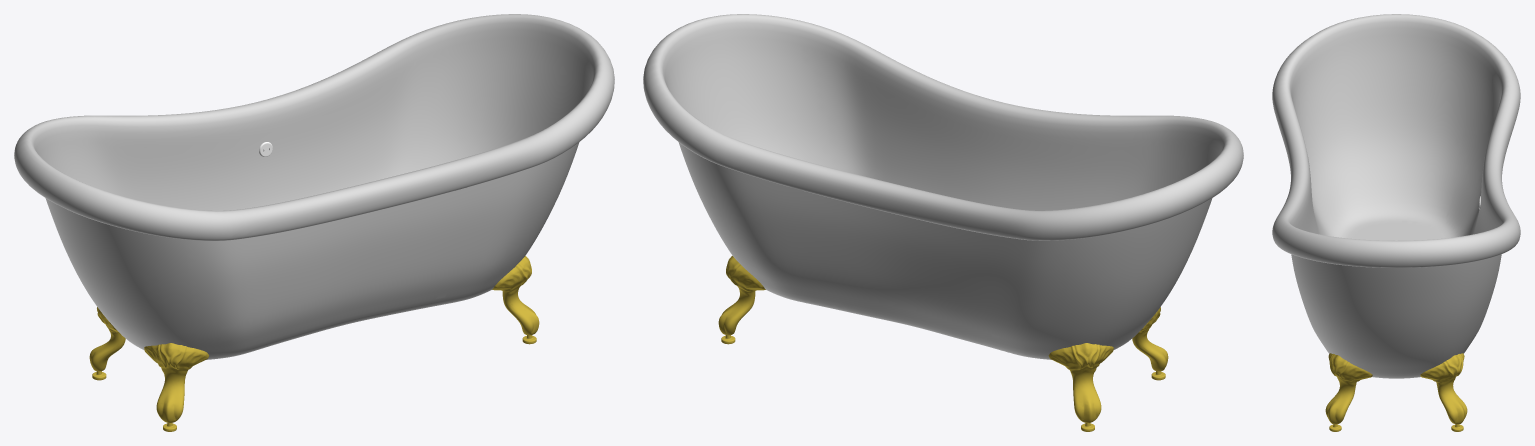
The model's file is classic_bathtub.glb.
The picture shows the model from 3 angles, left to right: view 1: azimuth 30°, elevation 25°; view 2: azimuth 150°, elevation 25°; view 3: azimuth 270°, elevation 25°; orthographic projection. The views are drawn at different scales.
Parts seen in each view (by area): view 1: Rectangle001_4, Cylinder003_2; view 2: Rectangle001_4, Cylinder003_2; view 3: Rectangle001_4, Cylinder003_2.
Boxes of the visible parts, <box> form: Rectangle001_4: <box>14,14,614,359</box>; Cylinder003_2: <box>89,256,539,423</box>; Rectangle001_4: <box>643,14,1243,359</box>; Cylinder003_2: <box>718,256,1168,423</box>; Rectangle001_4: <box>1272,14,1520,378</box>; Cylinder003_2: <box>1325,353,1467,424</box>.
Bounding box in the file's own units: 1.75 × 0.7788 × 0.7765.
